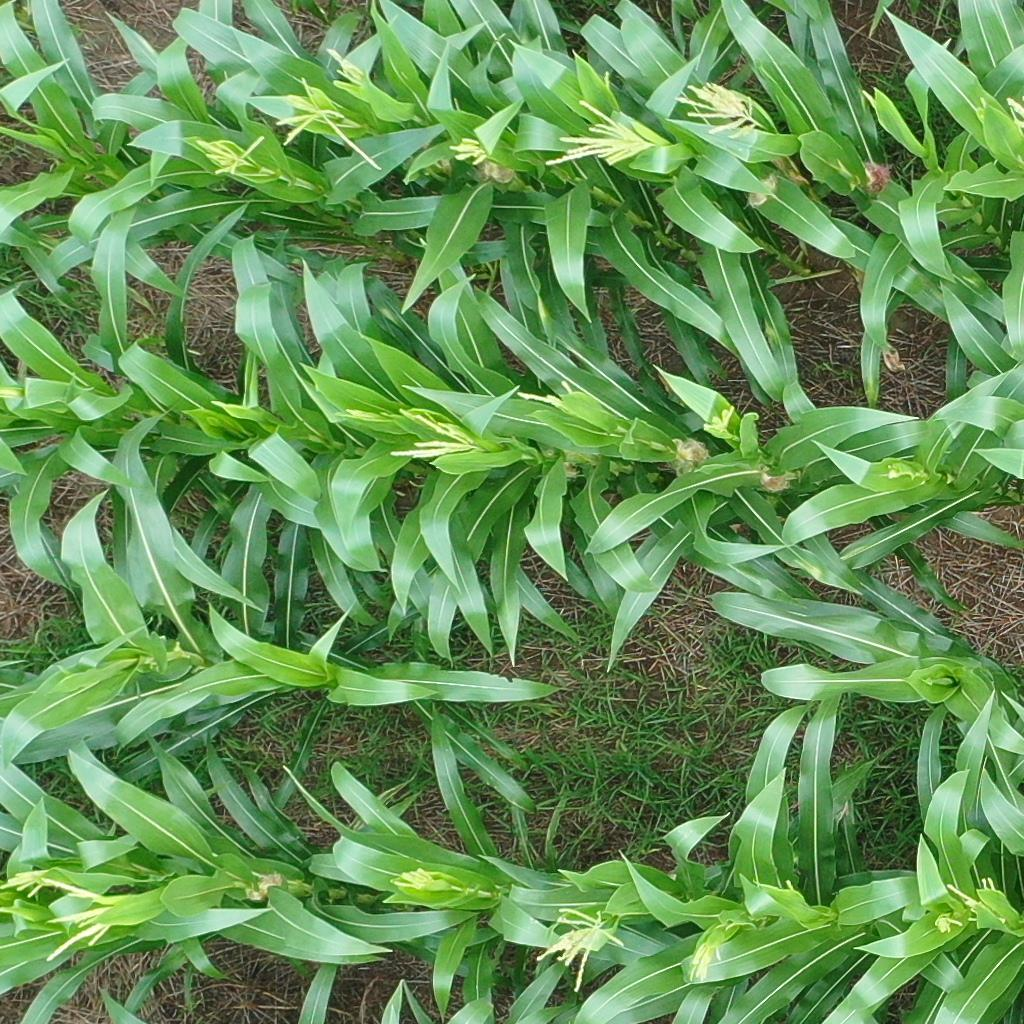Tassel: (271, 74, 386, 174), (542, 90, 656, 168), (533, 902, 627, 992), (39, 877, 120, 964), (673, 78, 765, 147), (381, 408, 477, 466), (192, 133, 272, 181), (943, 874, 1005, 920), (509, 377, 580, 413), (318, 39, 371, 87), (1, 860, 59, 902), (685, 940, 724, 987), (444, 133, 489, 167), (387, 864, 433, 895), (697, 402, 736, 435), (930, 914, 962, 937)
